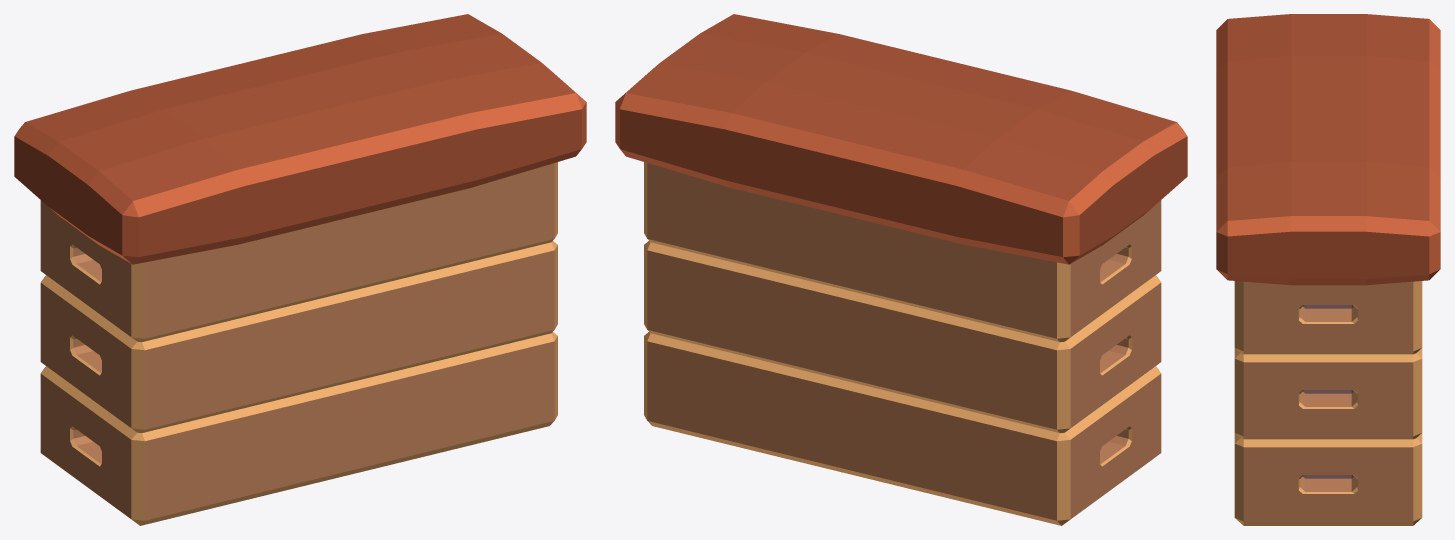
File: AtlamaYastığı.fbx
3 renders of one model, left to right at view 1: azimuth 30°, elevation 25°; view 2: azimuth 150°, elevation 25°; view 3: azimuth 270°, elevation 25°, orthographic. The views are drawn at different scales.
Visible parts, largest first — view 1: Yastık, Kutu1, Kutu2, Kutu3; view 2: Yastık, Kutu1, Kutu2, Kutu3; view 3: Yastık, Kutu1, Kutu2, Kutu3.
Part boxes in pixels (x1,y1,x2,y2): Yastık: [14, 14, 586, 264]; Kutu1: [40, 332, 557, 525]; Kutu2: [40, 241, 557, 432]; Kutu3: [40, 162, 557, 342]; Yastık: [615, 14, 1187, 264]; Kutu1: [644, 332, 1161, 525]; Kutu2: [644, 241, 1161, 432]; Kutu3: [644, 162, 1161, 342]; Yastık: [1216, 14, 1440, 285]; Kutu1: [1234, 433, 1422, 525]; Kutu2: [1234, 348, 1422, 439]; Kutu3: [1234, 281, 1422, 354].
Size of the model in its own units: 1.6 by 1.14 by 0.7171.
